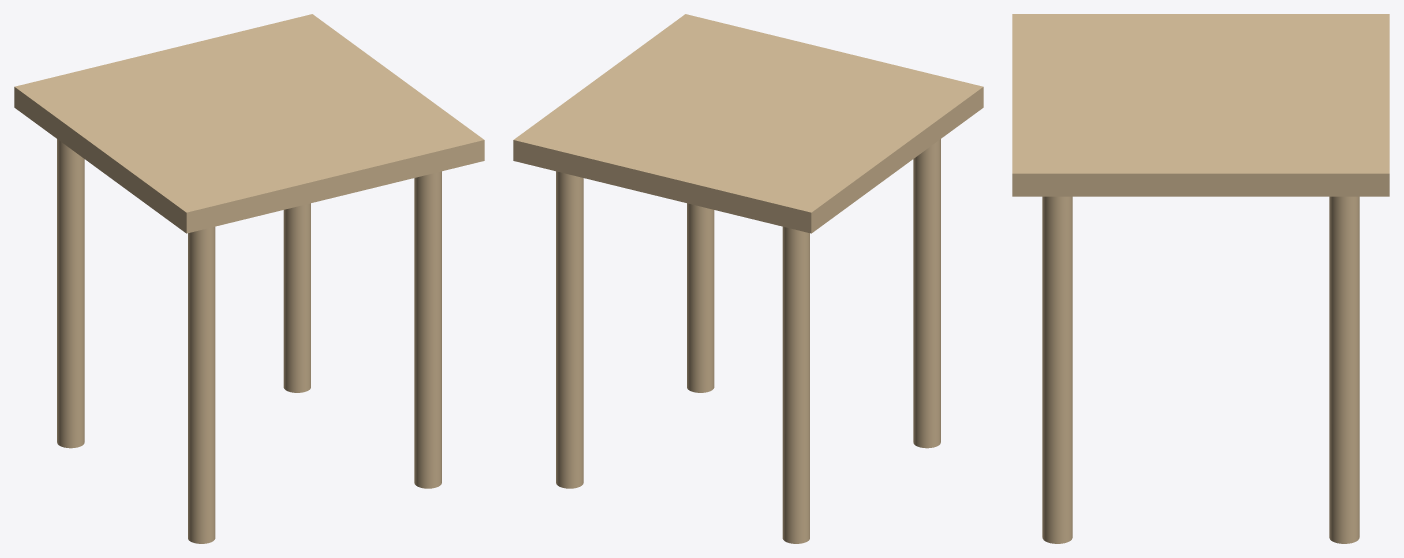
File: ikea-listerby-39513912-g2-proxy.glb
3 views of the same model, side by side, from view 1: azimuth 30°, elevation 25°; view 2: azimuth 150°, elevation 25°; view 3: azimuth 270°, elevation 25° (orthographic). The views are drawn at different scales.
Parts seen in each view (by area): view 1: proxy_body, leg (×4); view 2: proxy_body, leg (×4); view 3: proxy_body, leg (×2).
Boxes of the visible parts, bbox=[...] form: proxy_body: bbox=[14, 14, 484, 233]; leg (×4): bbox=[57, 139, 441, 543]; proxy_body: bbox=[513, 14, 983, 233]; leg (×4): bbox=[556, 139, 940, 543]; proxy_body: bbox=[1012, 14, 1389, 196]; leg (×2): bbox=[1042, 196, 1359, 543].
Size of the model in its own units: 0.5 by 0.56 by 0.5.
